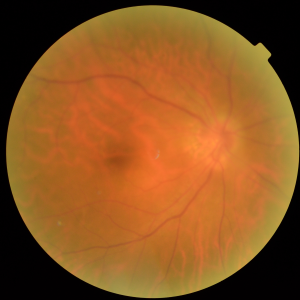retina_disease: (67, 92, 269, 213)
